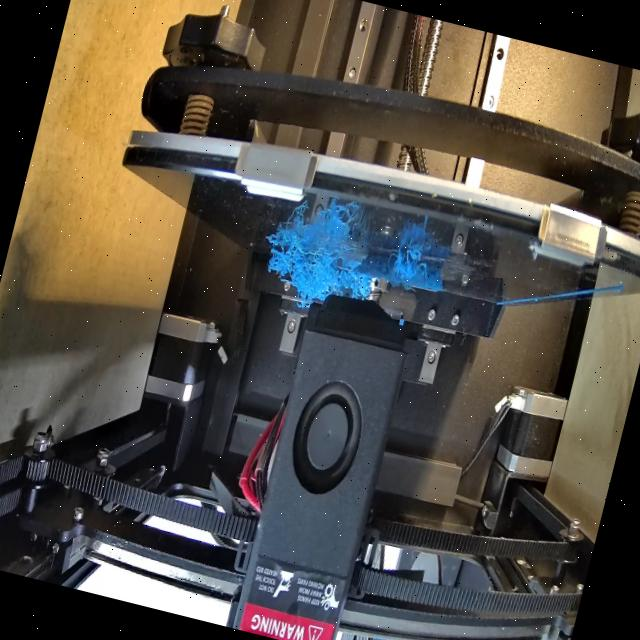spaghetti: (258, 230, 372, 303), (382, 246, 432, 292)
